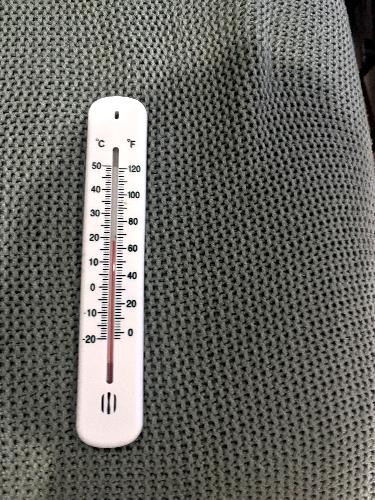thermo: (76, 94, 151, 448)
